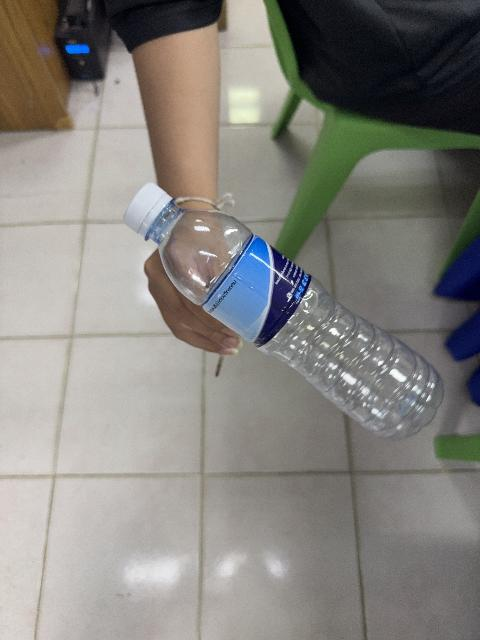bottle: (124, 184, 442, 438)
